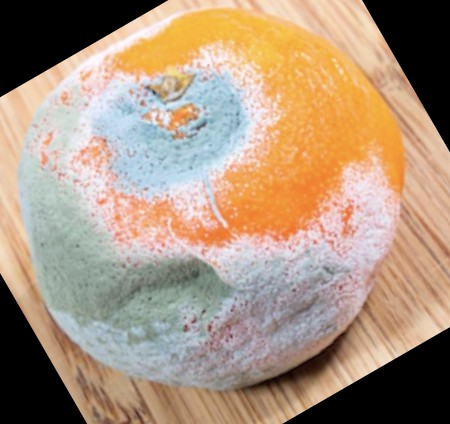rotten_orange: (19, 8, 404, 390)
